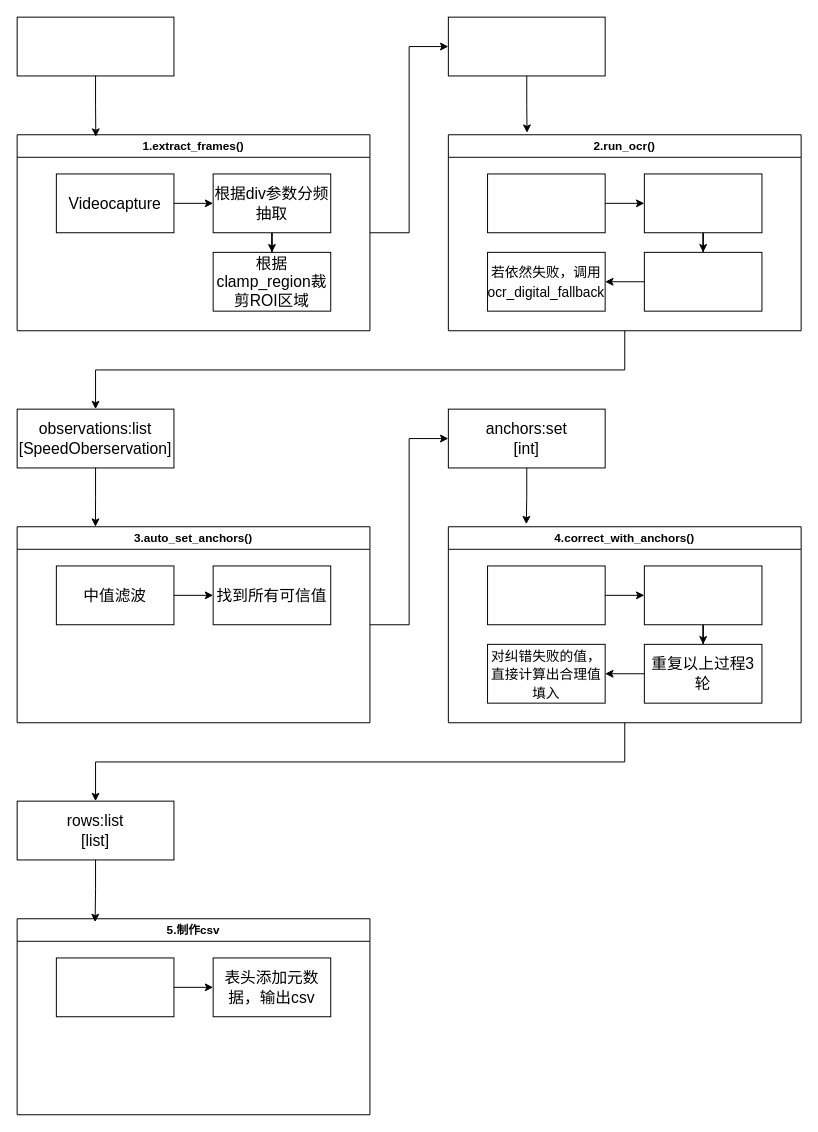
This 818x1132 diagram has some shape labels left out. Here are the shapes that lost their labels. From the top down, the centre of each, then its label:
the point at 95,46: 输入视频文件
the point at 526,46: frames:list [(float,np.ndarray)]
the point at 546,203: 预处理(灰度，统一高度)
the point at 702,203: RapidOCR检测+识别
the point at 702,281: 若失败，OTSU二值化，再OCR
the point at 546,595: 利用锚点数据，比对得到错误帧集合
the point at 702,595: 对错误帧用预处理方法进行重OCR，取最优值
the point at 114,987: 梯形法积分，得到每帧对应距离
